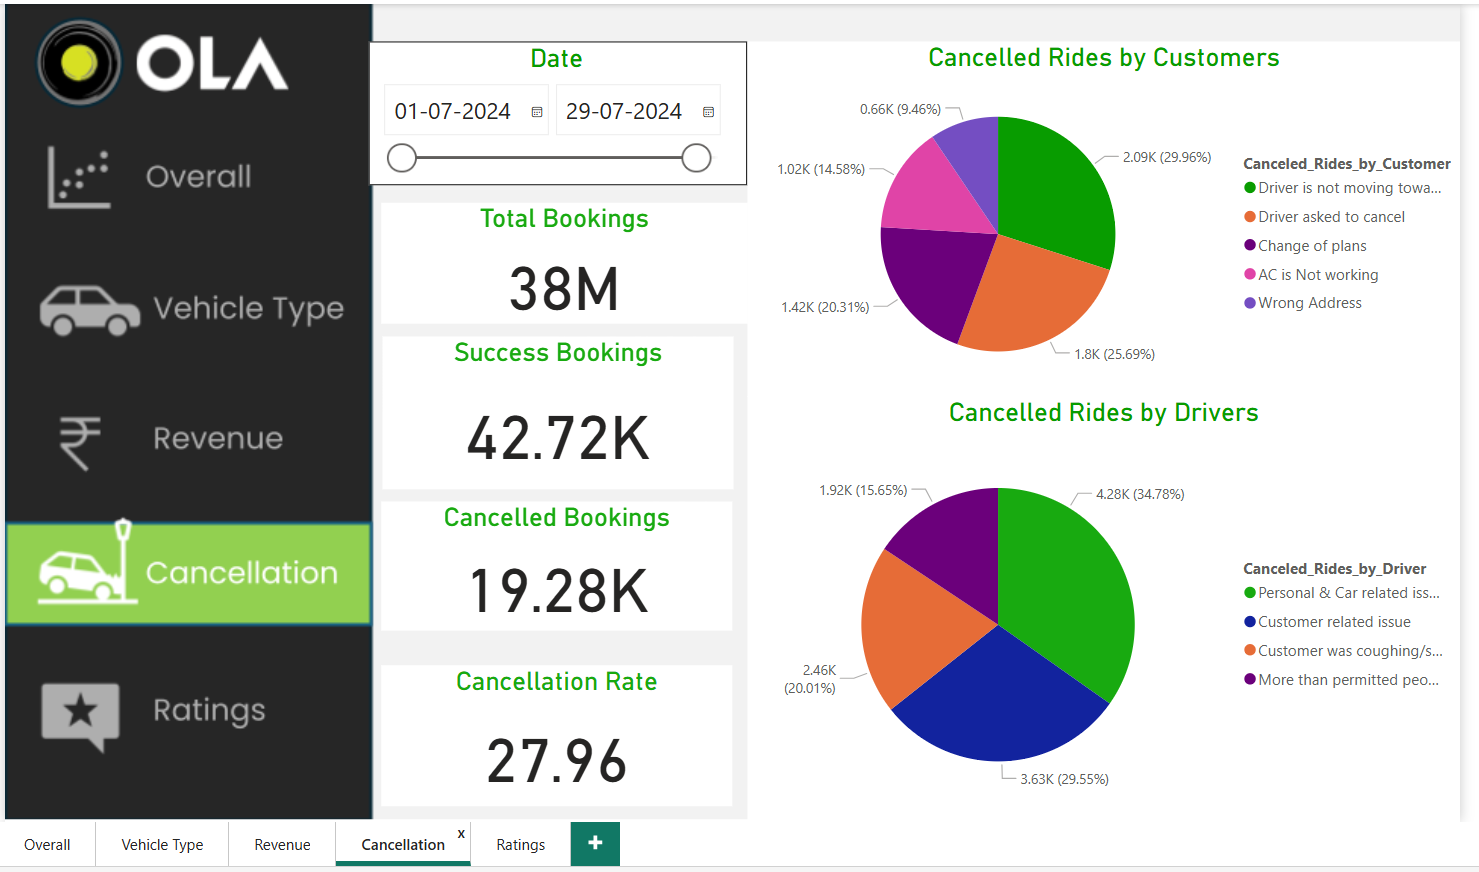

Layout of this report page (visuals, bound fields, positions):
{"tool":"powerbi","page":{"name":"Cancellation","canvas":[1280,720],"ordinal":3},"visuals":[{"type":"actionButton","box":[162.1,261.7,238.9,66.8],"z":0},{"type":"actionButton","box":[0,345.6,320,64],"z":1},{"type":"actionButton","box":[162.1,527.6,240.4,62.6],"z":2},{"type":"actionButton","box":[162.1,527.6,240.4,62.6],"z":3},{"type":"actionButton","box":[162.1,174.9,240.4,62.6],"z":4},{"type":"pieChart","title":"Cancelled Rides by Customers ","fields":{"Category":["July.Canceled_Rides_by_Customer"],"Y":["CountNonNull(July.Canceled_Rides_by_Customer)"]},"box":[652.8,32.7,627.2,312.9],"z":5},{"type":"pieChart","title":"Cancelled Rides by Drivers","fields":{"Category":["July.Canceled_Rides_by_Driver"],"Y":["CountNonNull(July.Canceled_Rides_by_Driver)"]},"box":[652.8,345.6,627.2,375.5],"z":6},{"type":"slicer","title":"Date","fields":{"Values":["July.Date"]},"box":[320,32.7,332.8,126.6],"z":7},{"type":"card","title":"Total Bookings","fields":{"Values":["Sum(July.Booking_Value)"]},"box":[331,174.8,322.2,106.7],"z":8},{"type":"card","title":"Success Bookings","fields":{"Values":["CountNonNull(July.Booking_ID)"]},"box":[332.1,292.5,309,134.1],"z":9},{"type":"card","title":"Cancelled Bookings","fields":{"Values":["CountNonNull(July.Booking_Status)"]},"box":[331,437.6,309,113.3],"z":10},{"type":"card","title":"Cancellation Rate","fields":{"Values":["July.CancelledPercentage"]},"box":[331,581.7,309,124.3],"z":11}]}

Visuals, with their boxes on the page's 1280x720 design canvas (x1, y1, x2, y2). These are canvas units, not pixel positions in the 1479x872 screenshot, which may show the page scaled, cropped or inside an application window:
actionButton: left=162, top=262, right=401, bottom=328
actionButton: left=0, top=346, right=320, bottom=410
actionButton: left=162, top=528, right=402, bottom=590
actionButton: left=162, top=528, right=402, bottom=590
actionButton: left=162, top=175, right=402, bottom=238
"Cancelled Rides by Customers " pieChart: left=653, top=33, right=1280, bottom=346
"Cancelled Rides by Drivers" pieChart: left=653, top=346, right=1280, bottom=721
"Date" slicer: left=320, top=33, right=653, bottom=159
"Total Bookings" card: left=331, top=175, right=653, bottom=282
"Success Bookings" card: left=332, top=292, right=641, bottom=427
"Cancelled Bookings" card: left=331, top=438, right=640, bottom=551
"Cancellation Rate" card: left=331, top=582, right=640, bottom=706
